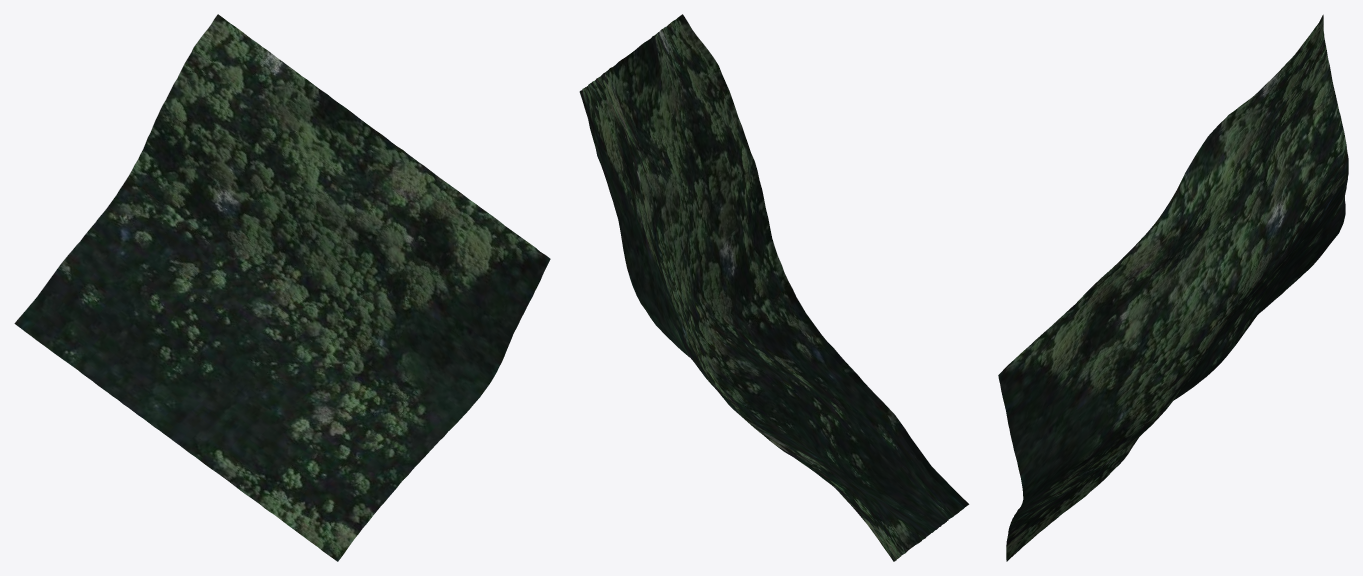
3 views of the same model, side by side, from view 1: azimuth 30°, elevation 25°; view 2: azimuth 150°, elevation 25°; view 3: azimuth 270°, elevation 25° (orthographic). The views are drawn at different scales.
Size of the model in its own units: 348 by 379 by 218.
1 material, 1 textured.
